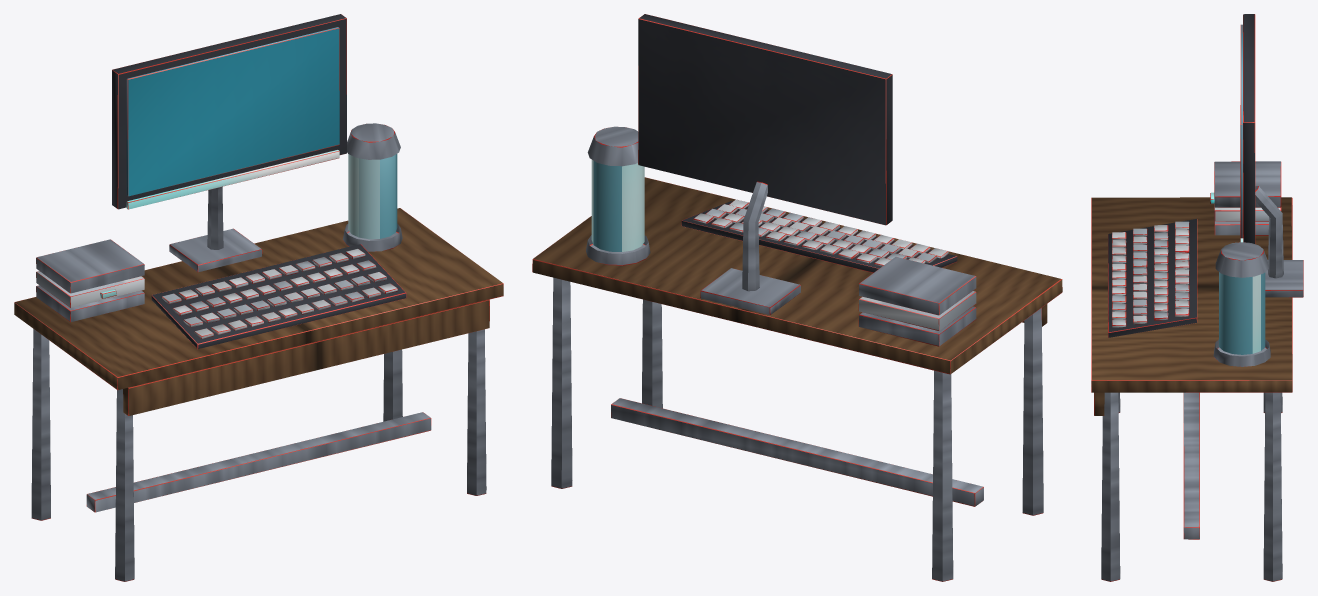
File: Env_Prop_ResearchTerminal_LOD1.fbx
3 views of the same model, side by side, from view 1: azimuth 30°, elevation 25°; view 2: azimuth 150°, elevation 25°; view 3: azimuth 270°, elevation 25° (orthographic). The views are drawn at different scales.
Visible parts, largest first — view 1: Env_Prop_ResearchTerminal_LOD1; view 2: Env_Prop_ResearchTerminal_LOD1; view 3: Env_Prop_ResearchTerminal_LOD1.
Part boxes in pixels (x1,y1,x2,y2): Env_Prop_ResearchTerminal_LOD1: (14,14,503,581); Env_Prop_ResearchTerminal_LOD1: (532,14,1062,581); Env_Prop_ResearchTerminal_LOD1: (1091,14,1303,581).
Size of the model in its own units: 155 by 75.91 by 168.
